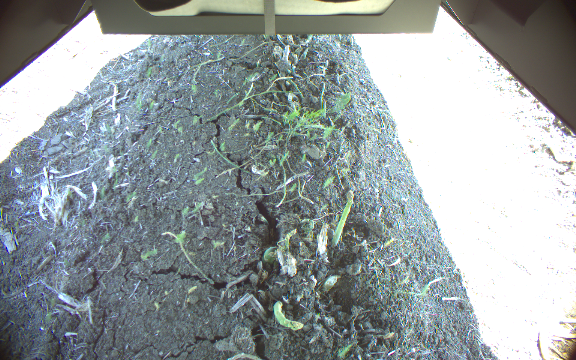aspa: (331, 190, 355, 246), (271, 299, 305, 331)
